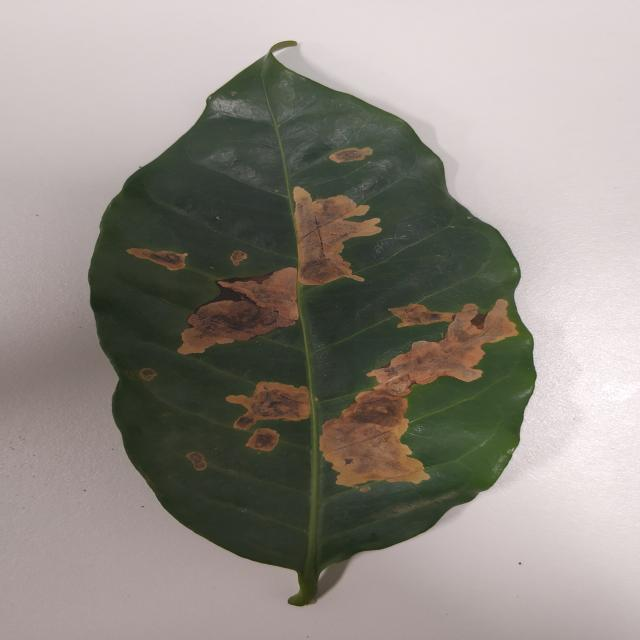Plaga-Minador: (87, 44, 538, 609)
